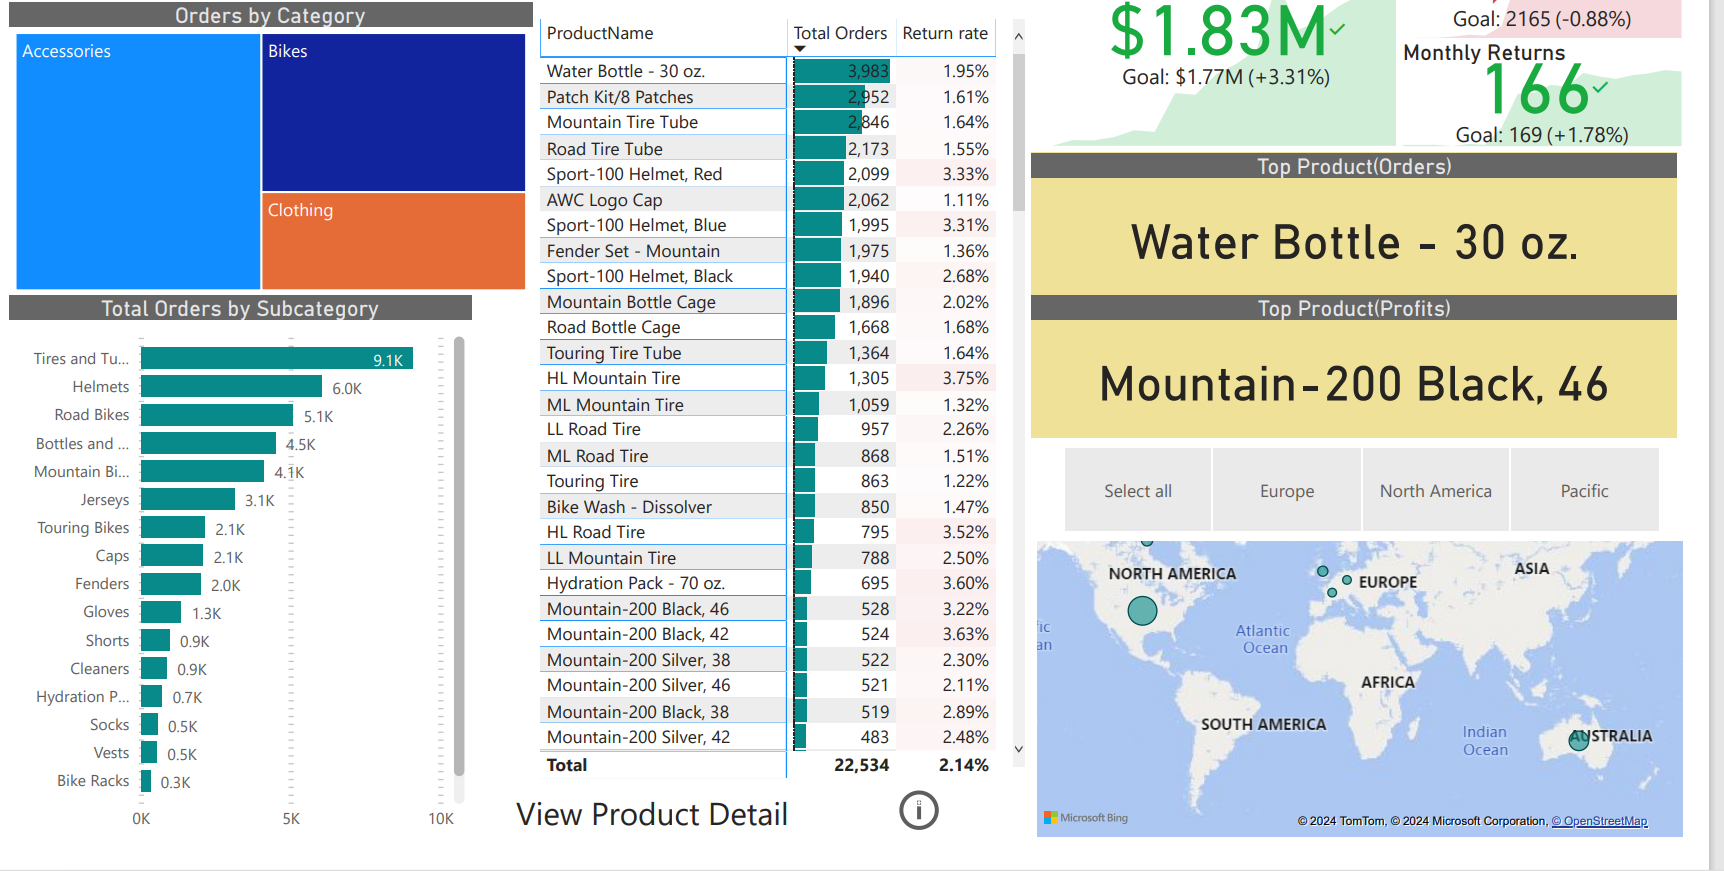

The dashboard page shown, as its layout file describes it:
{"tool":"powerbi","page":{"name":"Exec Summary","canvas":[1280,720],"ordinal":0},"visuals":[{"type":"image","box":[0,0,277.4,73.1],"z":0},{"type":"barChart","title":"Total Orders by Subcategory","fields":{"Y":["AW_Sales.Total Orders"],"Category":["AW_Product_Subcategories_Lookup.SubcategoryName"]},"box":[0,299.8,352.3,418.2],"z":1000},{"type":"treemap","title":"Orders by Category","fields":{"Group":["AW_Product_Subcategories_Lookup.SubcategoryName","AW_Product_Categories_Lookup.CategoryName"],"Values":["AW_Sales.Total Orders"]},"box":[0,75.7,398.6,225.1],"z":2000},{"type":"pivotTable","fields":{"Values":["AW_Sales.Total Orders","AW_Returns.Return rate"],"Rows":["AW_Product_Categories_Lookup.CategoryName","AW_Product_Subcategories_Lookup.SubcategoryName","AW_Product_Lookup.ProductName"]},"box":[399.3,85,379.5,587.6],"z":3000},{"type":"slicer","fields":{"Values":["AW_Calendar_Lookup.Date"]},"box":[277.1,0,505.7,73.5],"z":4000},{"type":"kpi","title":"Monthly Revenue","fields":{"Indicator":["AW_Sales.Total Revenue"],"TrendLine":["AW_Calendar_Lookup.Start of Month"],"Goal":["AW_Sales.Prev Month Revenue"]},"box":[790.2,16,275.4,175.3],"z":5000},{"type":"kpi","title":"Monthly Orders","fields":{"TrendLine":["AW_Calendar_Lookup.Start of Month"],"Goal":["AW_Sales.Prev Month Orders"],"Indicator":["AW_Sales.Total Orders"]},"box":[1057.7,9,222.3,101.2],"z":6000},{"type":"kpi","title":"Monthly Returns","fields":{"TrendLine":["AW_Calendar_Lookup.Start of Month"],"Indicator":["AW_Returns.Total Returns"],"Goal":["AW_Returns.Prev Month Returns"]},"box":[1057.7,104.2,222.3,87.1],"z":7000},{"type":"card","title":"Top Product(Orders)","fields":{"Values":["Min(AW_Product_Lookup.ProductName)"]},"box":[778.5,190.9,492.1,108.9],"z":8000},{"type":"card","title":"Top Product(Profits)","fields":{"Values":["Min(AW_Product_Lookup.ProductName)"]},"box":[778.5,299.8,492.1,108.9],"z":9000},{"type":"map","fields":{"Category":["AW_Territories_Lookup.Country"],"Size":["AW_Sales.Total Orders"]},"box":[778.5,408.7,501.5,309.2],"z":10000},{"type":"slicer","fields":{"Values":["AW_Territories_Lookup.Continent"]},"box":[778.5,410.1,501.5,76.6],"z":11000},{"type":"textbox","box":[380.9,672.6,397.9,45.3],"z":12000},{"type":"actionButton","box":[674,672.6,94.9,39.6],"z":13000}]}

Visuals, with their boxes on the page's 1280x720 design canvas (x1, y1, x2, y2). These are canvas units, not pixel positions in the 1724x871 screenshot, which may show the page scaled, cropped or inside an application window:
image: locate(0, 0, 277, 73)
"Total Orders by Subcategory" barChart: locate(0, 300, 352, 718)
"Orders by Category" treemap: locate(0, 76, 399, 301)
pivotTable - AW_Sales.Total Orders x AW_Returns.Return rate: locate(399, 85, 779, 673)
slicer - AW_Calendar_Lookup.Date: locate(277, 0, 783, 74)
"Monthly Revenue" kpi: locate(790, 16, 1066, 191)
"Monthly Orders" kpi: locate(1058, 9, 1280, 110)
"Monthly Returns" kpi: locate(1058, 104, 1280, 191)
"Top Product(Orders)" card: locate(778, 191, 1271, 300)
"Top Product(Profits)" card: locate(778, 300, 1271, 409)
map - AW_Territories_Lookup.Country x AW_Sales.Total Orders: locate(778, 409, 1280, 718)
slicer - AW_Territories_Lookup.Continent: locate(778, 410, 1280, 487)
textbox: locate(381, 673, 779, 718)
actionButton: locate(674, 673, 769, 712)
